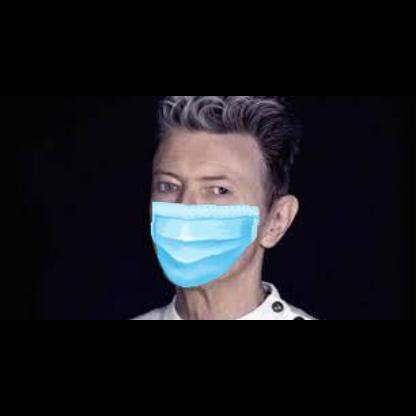Surgical Mask: (150, 152, 262, 286)
